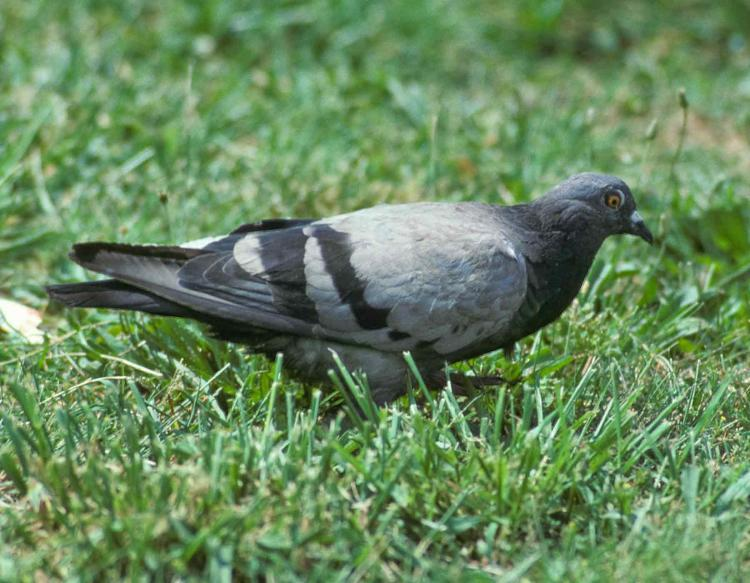Flying Rat: (64, 167, 648, 402)
